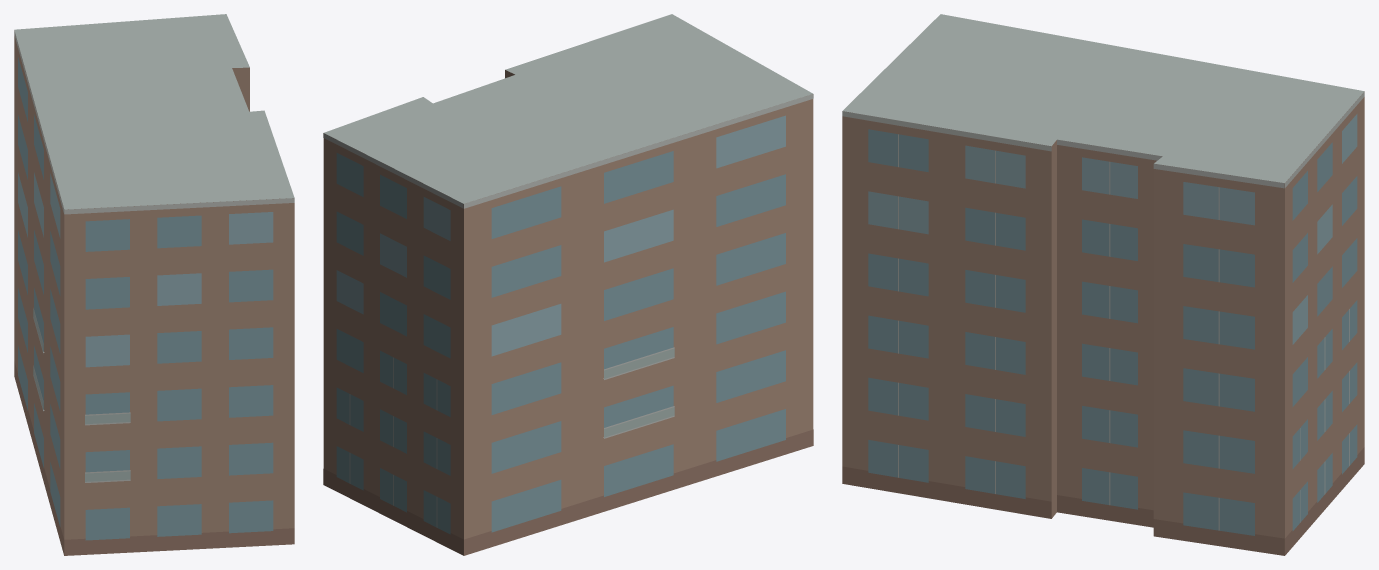
File: survey-upis-32557396.glb
3 renders of one model, left to right at view 1: azimuth 30°, elevation 25°; view 2: azimuth 150°, elevation 25°; view 3: azimuth 270°, elevation 25°, orthographic. The views are drawn at different scales.
Visible parts, largest first — view 1: survey-upis-32557396.tmp; view 2: survey-upis-32557396.tmp; view 3: survey-upis-32557396.tmp.
Boxes of the visible parts, x1=… form: survey-upis-32557396.tmp: x1=14, y1=14, x2=294, y2=555; survey-upis-32557396.tmp: x1=323, y1=14, x2=813, y2=555; survey-upis-32557396.tmp: x1=842, y1=14, x2=1364, y2=555.
Size of the model in its own units: 16.95 by 17.4 by 22.11.
